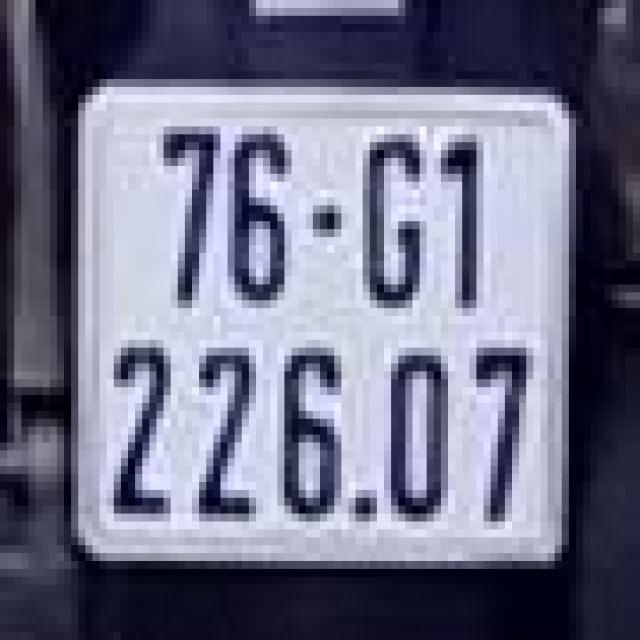0: (377, 344, 462, 533)
1: (426, 130, 491, 320)
2: (92, 340, 185, 529), (188, 332, 260, 529)
6: (274, 344, 352, 533), (228, 126, 298, 316)
7: (153, 119, 224, 316), (473, 336, 544, 525)
G: (345, 126, 430, 324)
